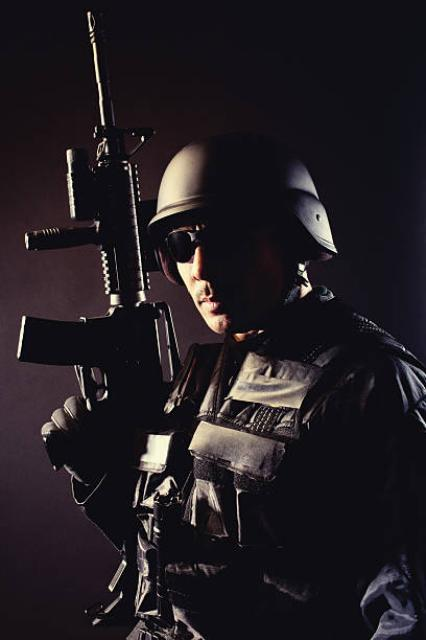other: (49, 146, 424, 630)
